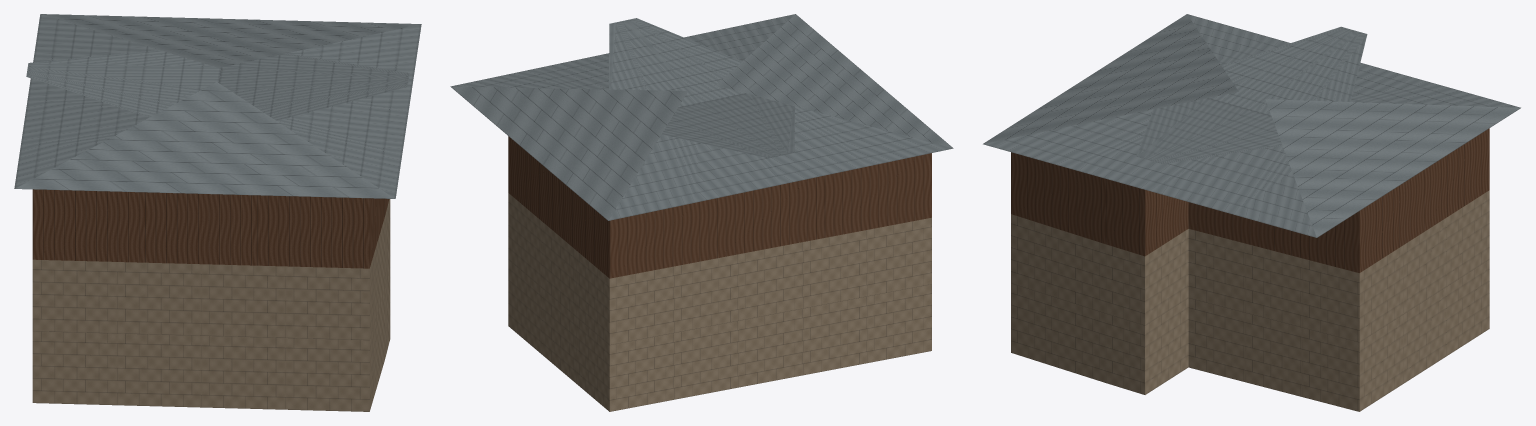
The model's file is bld_c-1_46_528.gltf.
3 renders of one model, left to right at view 1: azimuth 30°, elevation 25°; view 2: azimuth 150°, elevation 25°; view 3: azimuth 270°, elevation 25°, orthographic. The views are drawn at different scales.
Visible parts, largest first — view 1: bld_c-1_46_528; view 2: bld_c-1_46_528; view 3: bld_c-1_46_528.
Boxes of the visible parts, x1,y1,x2,y2 form: bld_c-1_46_528: (14,14,421,411); bld_c-1_46_528: (450,14,953,411); bld_c-1_46_528: (983,14,1520,411).
Bounding box in the file's own units: 15.73 × 8 × 15.99.
3 materials, 3 textured.
